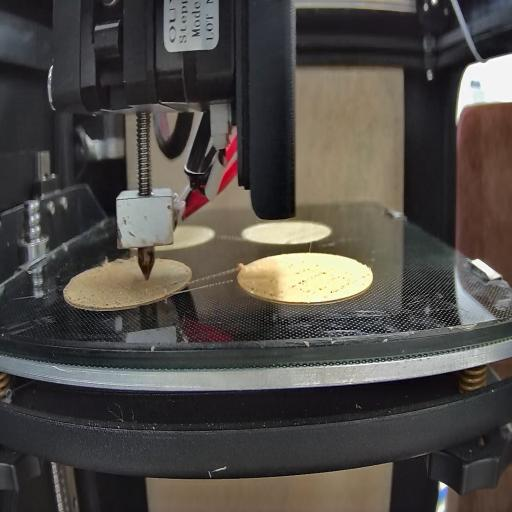under_extrusion: (290, 260, 353, 296), (74, 282, 118, 306), (246, 278, 282, 301), (156, 272, 182, 294)
